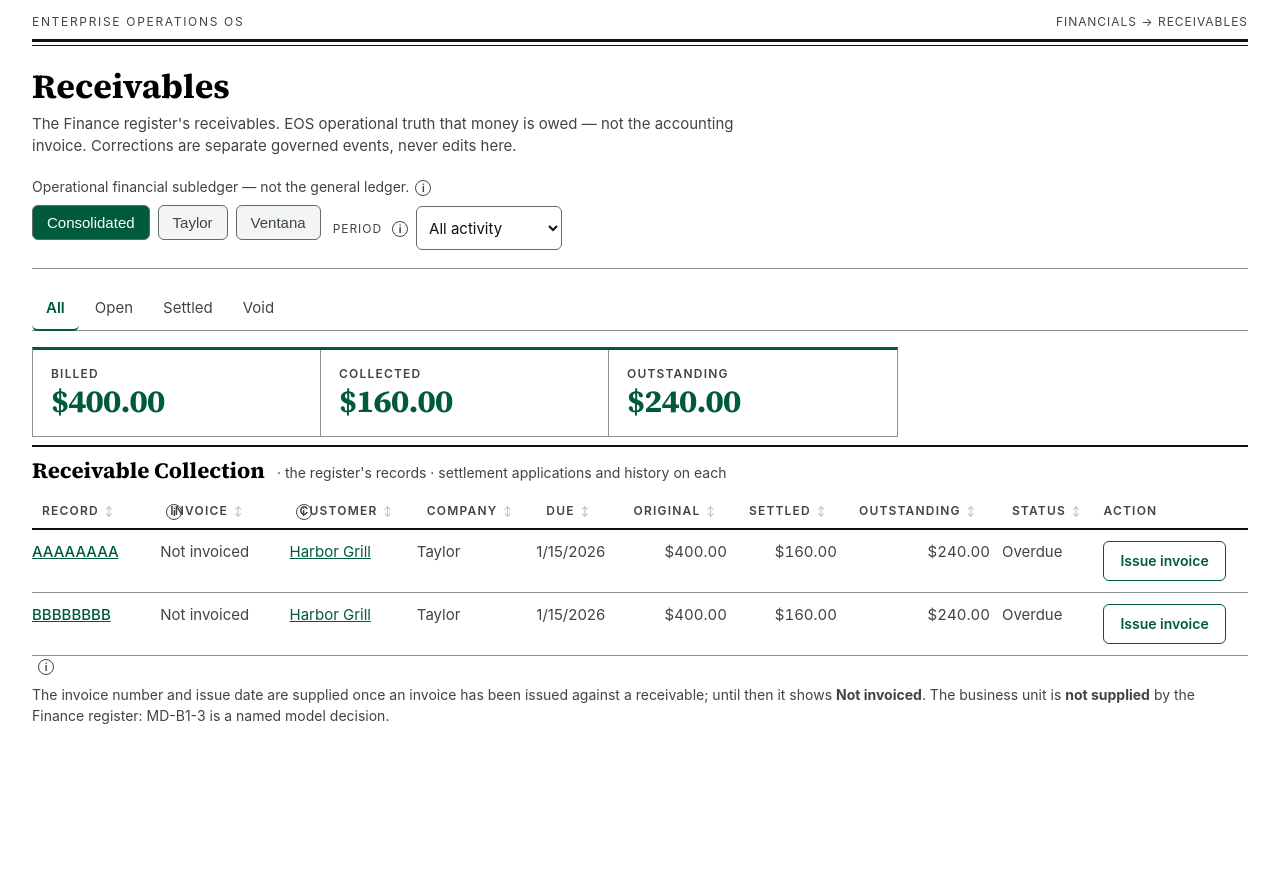
it: Receivables — Issue invoice: in flight and refused (F-1a-UI) › while an issue is in flight no other row can start one
Click the button "Issue invoice" in the row of "AAAAAAAA": (1165, 561) [1104,541,1226,581]
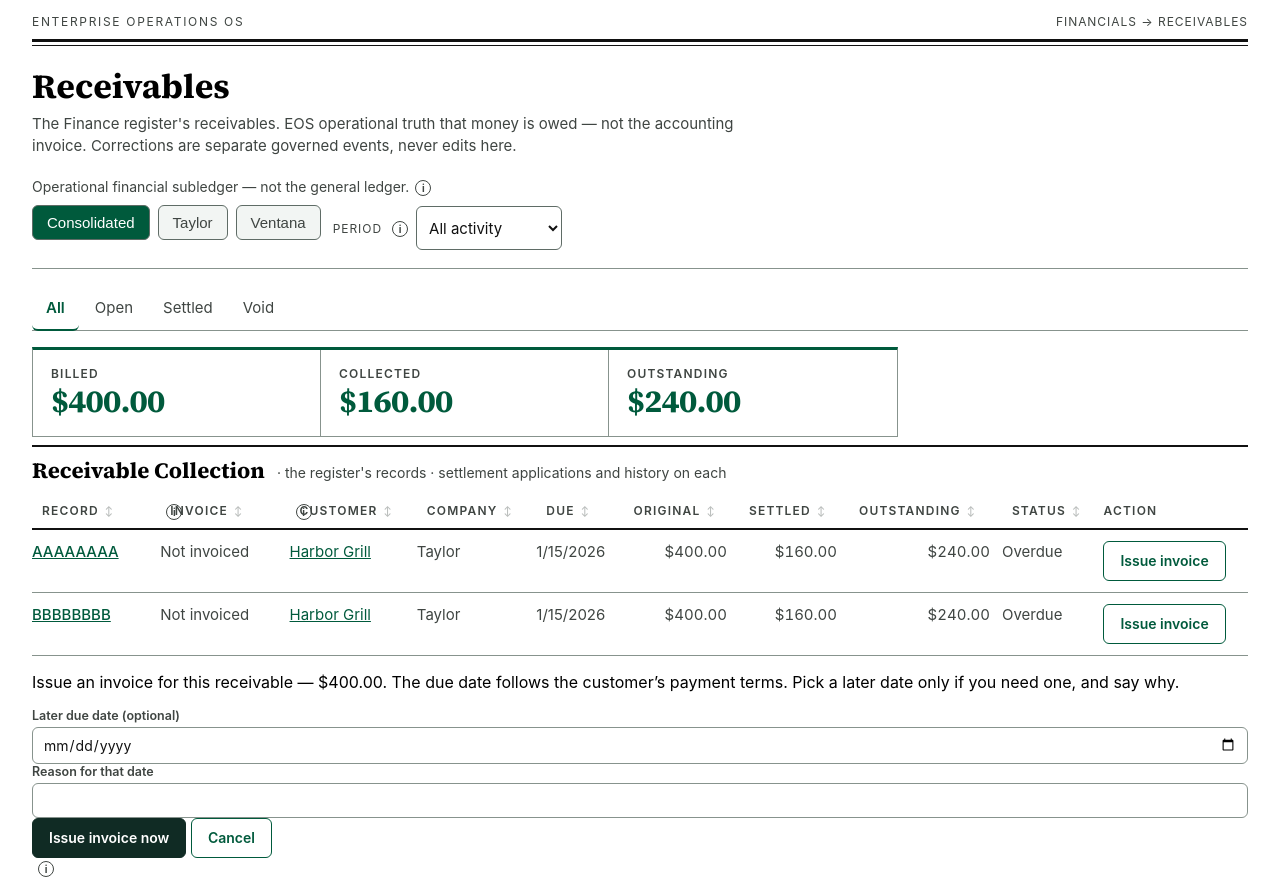
Click the button "Issue invoice now": (109, 838) [32,818,186,858]
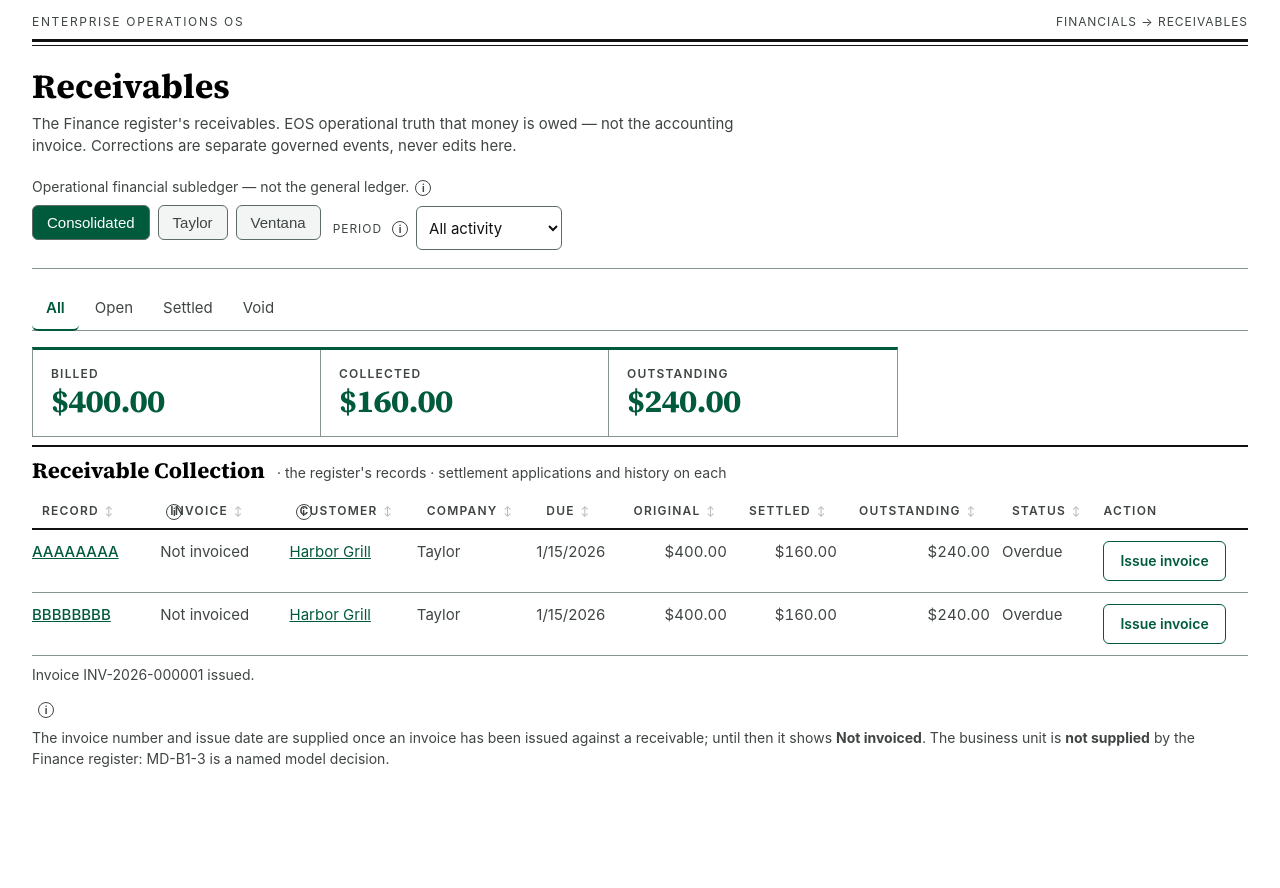
Result: the text "Invoice INV-2026-000001 issued." is shown at [32,666,255,683]
